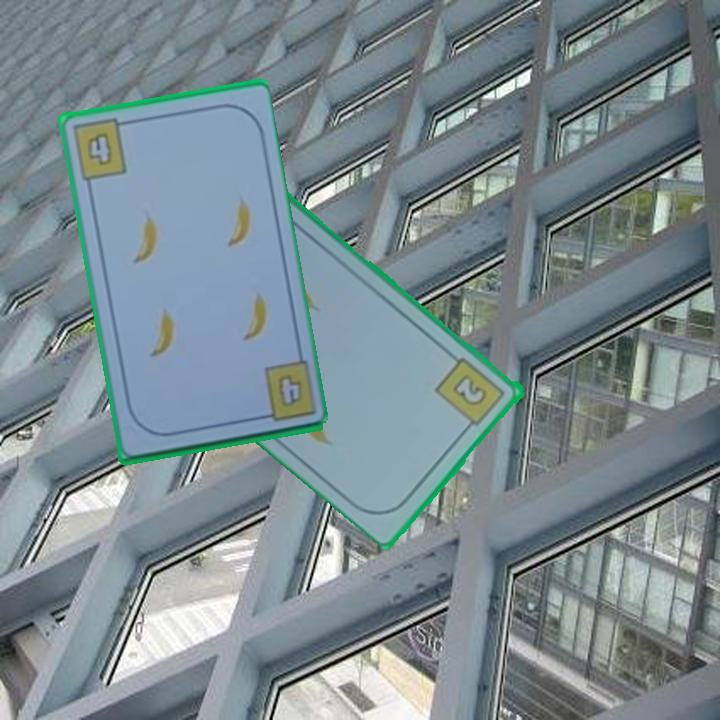2b: (432, 354, 509, 434)
4b: (68, 115, 132, 183), (274, 370, 305, 410)
